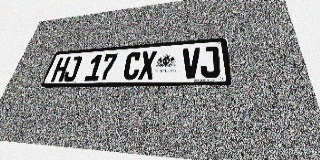1: (84, 54, 105, 81)
7: (98, 53, 118, 81)
C: (122, 52, 142, 80)
H: (50, 57, 71, 82)
J: (200, 46, 220, 78), (62, 56, 83, 82)
V: (182, 47, 200, 79)
X: (138, 51, 157, 80)
